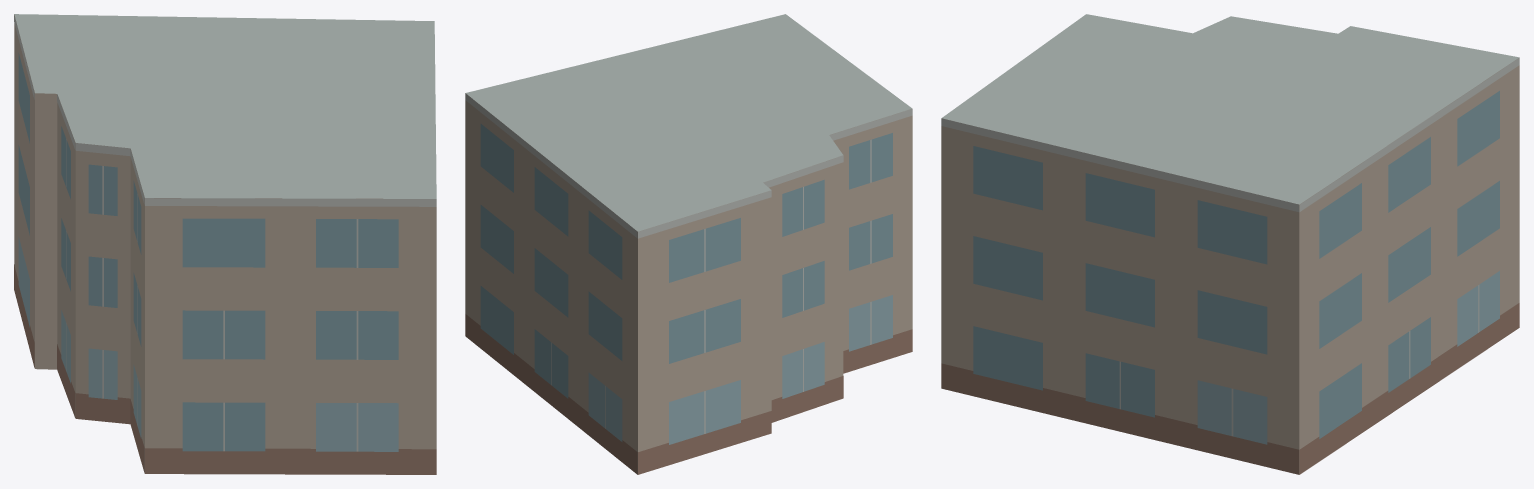
File: survey-upis-32673243.glb
3 renders of one model, left to right at view 1: azimuth 30°, elevation 25°; view 2: azimuth 150°, elevation 25°; view 3: azimuth 270°, elevation 25°, orthographic. The views are drawn at different scales.
Parts seen in each view (by area): view 1: survey-upis-32673243.tmp; view 2: survey-upis-32673243.tmp; view 3: survey-upis-32673243.tmp.
Part boxes in pixels (x1,y1,x2,y2): survey-upis-32673243.tmp: [14, 14, 436, 474]; survey-upis-32673243.tmp: [465, 14, 912, 474]; survey-upis-32673243.tmp: [941, 14, 1519, 474].
Size of the model in its own units: 12.86 by 8.5 by 16.49.
